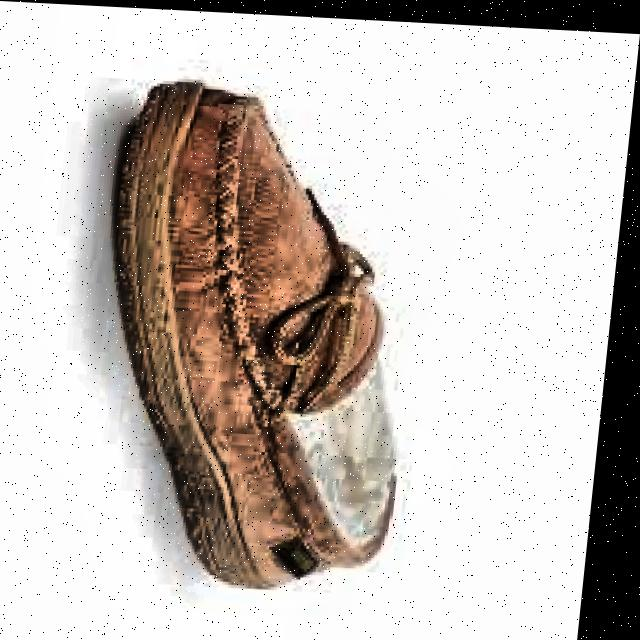shoes: (40, 43, 484, 607)
